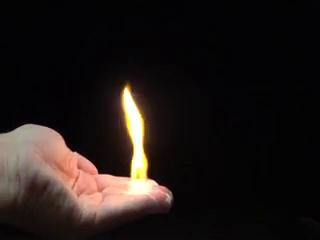Fire: (125, 81, 154, 198)
